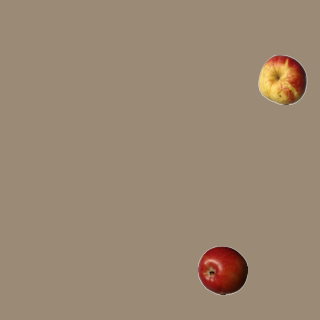Apple Braeburn: (197, 245, 247, 295)
Apple Red Yellow 1: (257, 54, 307, 104)
